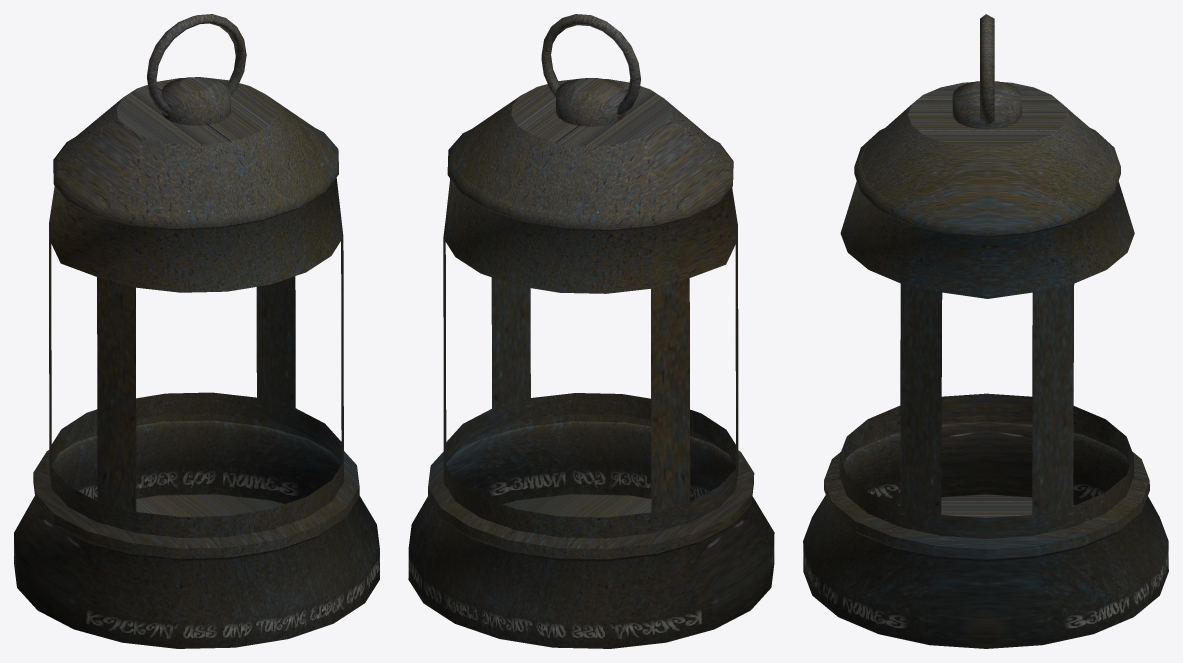
File: lantern.fbx
The picture shows the model from 3 angles, left to right: view 1: azimuth 30°, elevation 25°; view 2: azimuth 150°, elevation 25°; view 3: azimuth 270°, elevation 25°; orthographic projection.
Visible parts, largest first — view 1: polySurface5; view 2: polySurface5; view 3: polySurface5.
Boxes of the visible parts, <box> form: polySurface5: <box>14,14,379,648</box>; polySurface5: <box>408,14,774,648</box>; polySurface5: <box>803,14,1168,648</box>.
Size of the model in its own units: 2.33 by 3.89 by 2.33.
